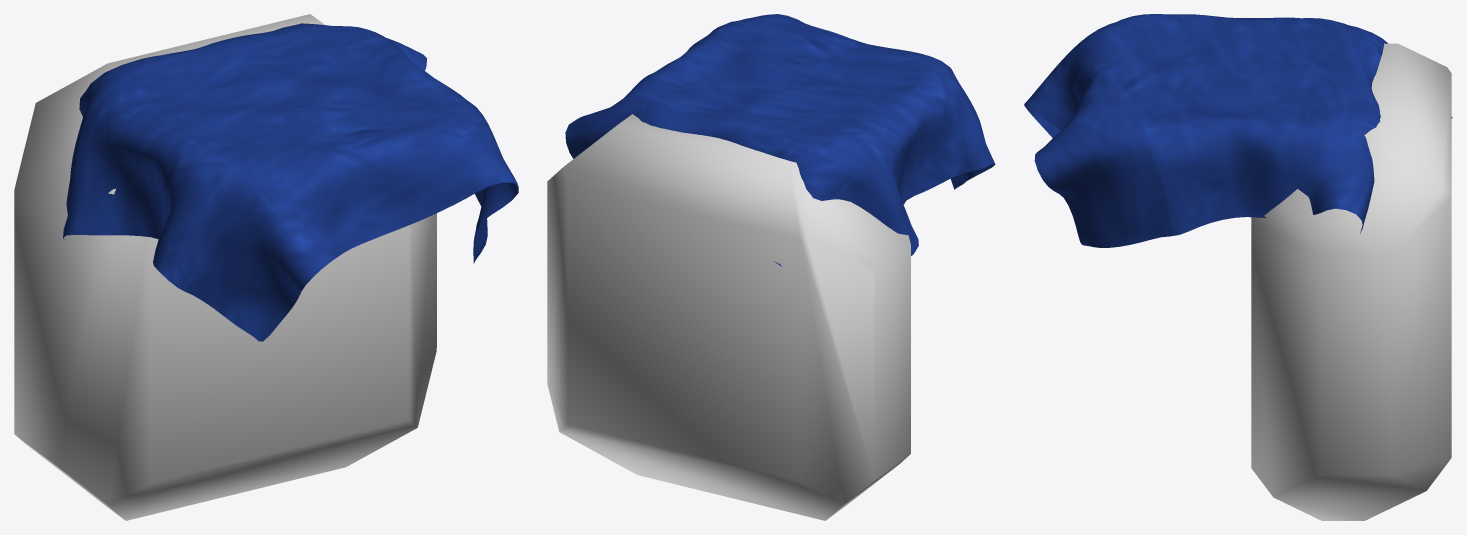
File: SM_Tarp_Barrels.fbx
3 renders of one model, left to right at view 1: azimuth 30°, elevation 25°; view 2: azimuth 150°, elevation 25°; view 3: azimuth 270°, elevation 25°, orthographic. The views are drawn at different scales.
Visible parts, largest first — view 1: SM_Tarp_Barrels_ConvexHulls, SM_Tarp_Barrels; view 2: SM_Tarp_Barrels_ConvexHulls, SM_Tarp_Barrels; view 3: SM_Tarp_Barrels_ConvexHulls, SM_Tarp_Barrels.
Boxes of the visible parts, box(x1,y1,x2,y2) form: SM_Tarp_Barrels_ConvexHulls: box(14, 14, 436, 520); SM_Tarp_Barrels: box(63, 23, 518, 341); SM_Tarp_Barrels_ConvexHulls: box(547, 114, 910, 520); SM_Tarp_Barrels: box(565, 14, 995, 266); SM_Tarp_Barrels_ConvexHulls: box(1251, 43, 1451, 520); SM_Tarp_Barrels: box(1024, 14, 1452, 247).
Bounding box in the file's own units: 1.97 × 2.15 × 2.06.
